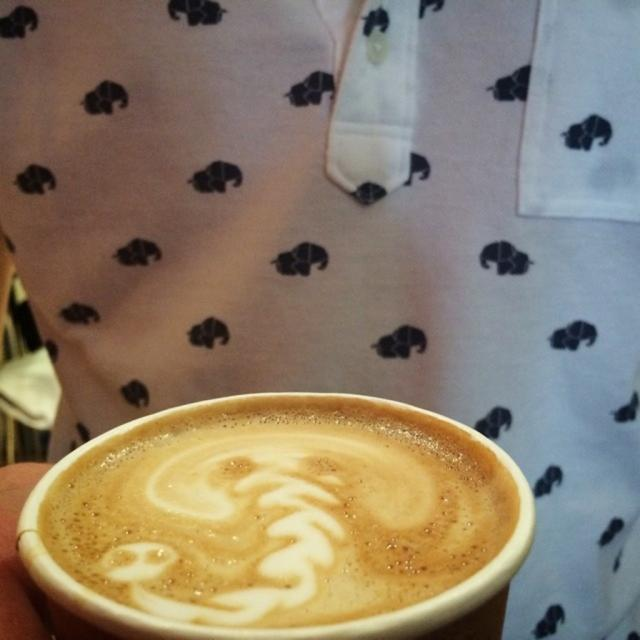latte: (15, 391, 539, 640)
